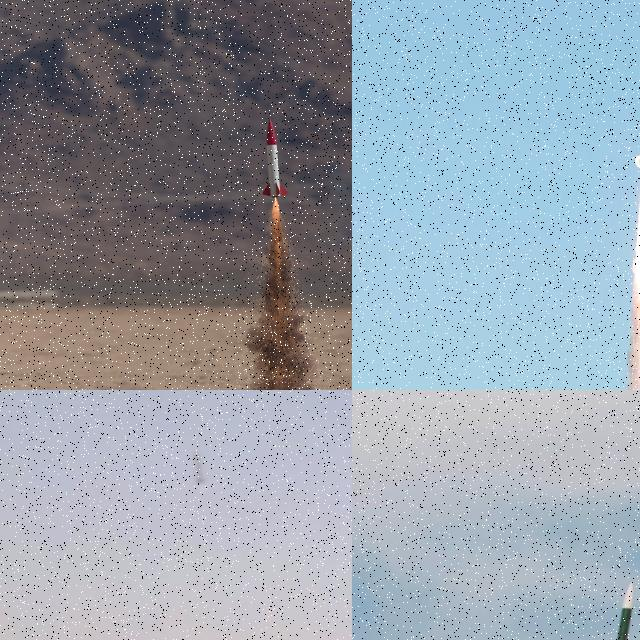Rocket: (590, 580, 635, 640), (261, 117, 290, 199), (633, 13, 640, 176), (192, 452, 206, 484)
